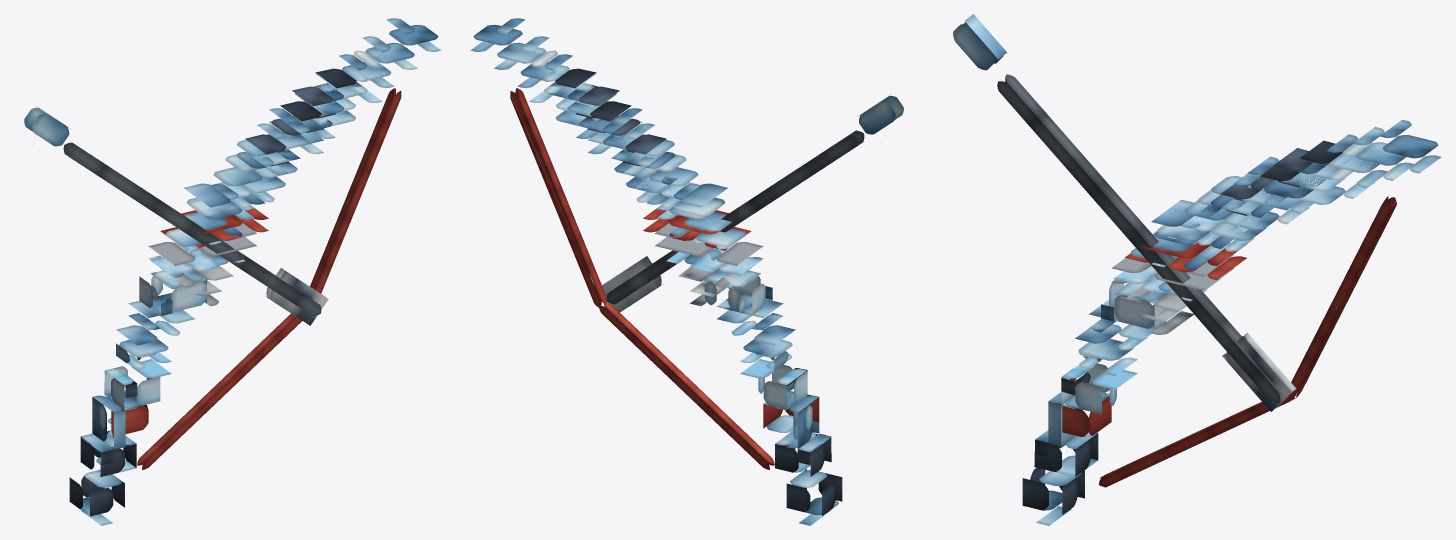
The model's file is frostbound_longbow_pulling_1.obj.
3 views of the same model, side by side, from view 1: azimuth 30°, elevation 25°; view 2: azimuth 150°, elevation 25°; view 3: azimuth 330°, elevation 25° (orthographic). The views are drawn at different scales.
Parts seen in each view (by area): view 1: lit, fire; view 2: lit, fire; view 3: lit, fire.
Part boxes in pixels (left/top/right/bottom): lit: left=24, top=18, right=441, bottom=525; fire: left=265, top=268, right=328, bottom=325; lit: left=470, top=18, right=903, bottom=525; fire: left=602, top=256, right=662, bottom=312; lit: left=953, top=14, right=1441, bottom=525; fire: left=1222, top=332, right=1296, bottom=411.
Size of the model in its own units: 1.12 by 1.1 by 0.125.
